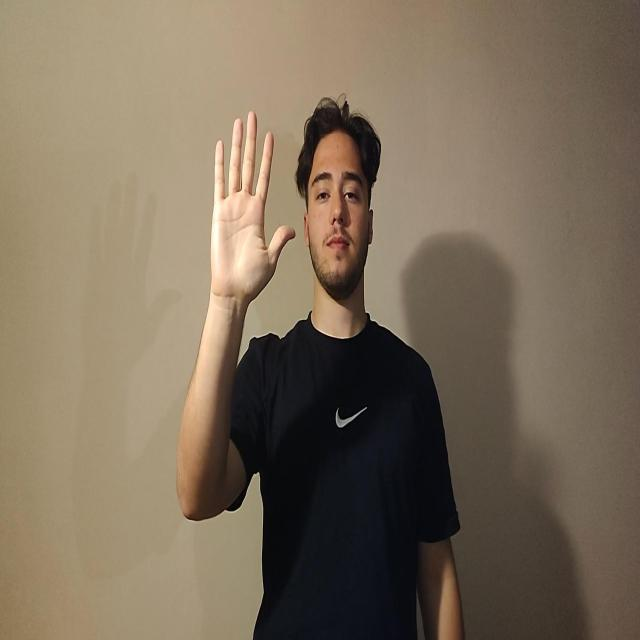hello: (209, 109, 296, 306)
